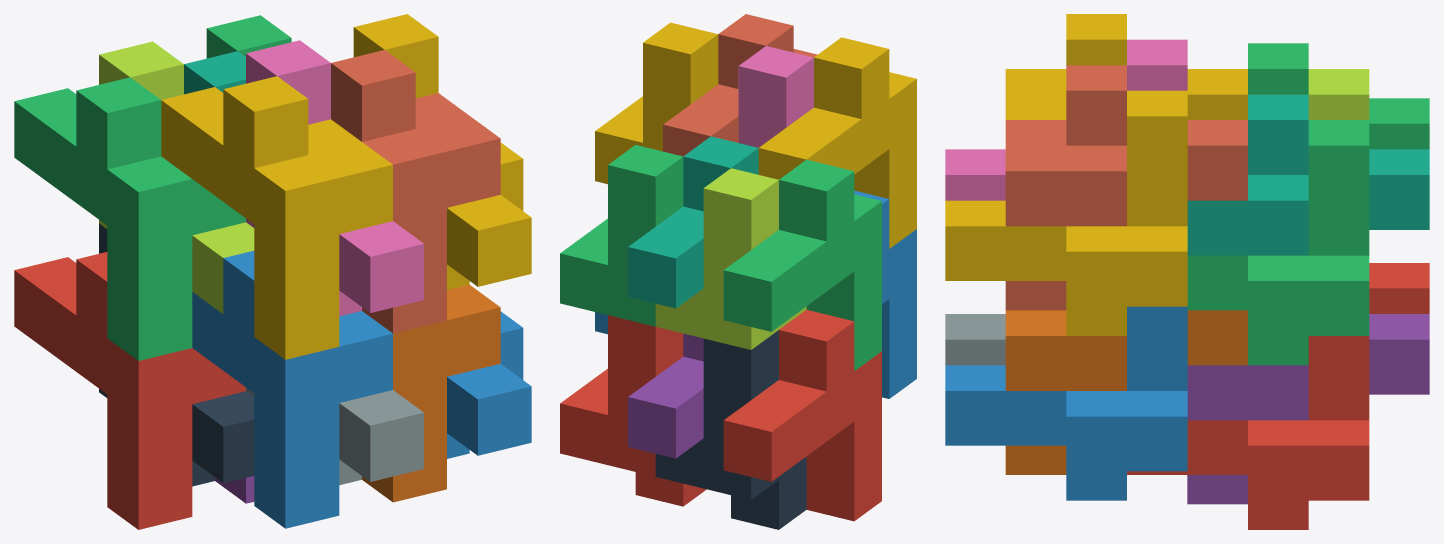
Rendered from tiling.obj.
3 views of the same model, side by side, from view 1: azimuth 30°, elevation 25°; view 2: azimuth 150°, elevation 25°; view 3: azimuth 270°, elevation 25° (orthographic). The views are drawn at different scales.
Parts seen in each view (by area): view 1: copy_1_domain_4, copy_1_domain_3, copy_1_domain_1, copy_1_domain_2, copy_1_domain_8, copy_2_domain_8, copy_1_domain_6, copy_2_domain_4, copy_2_domain_6, copy_2_domain_2, copy_2_domain_3, copy_2_domain_1 (+3 smaller); view 2: copy_1_domain_1, copy_1_domain_3, copy_1_domain_4, copy_2_domain_1, copy_2_domain_7, copy_2_domain_5, copy_2_domain_3, copy_1_domain_7, copy_2_domain_8, copy_1_domain_8, copy_1_domain_5, copy_2_domain_4 (+1 smaller); view 3: copy_2_domain_8, copy_2_domain_6, copy_2_domain_7, copy_1_domain_8, copy_2_domain_5, copy_1_domain_7, copy_1_domain_5, copy_1_domain_6, copy_1_domain_4, copy_1_domain_3, copy_2_domain_4, copy_2_domain_2 (+2 smaller).
Part boxes in pixels (x1,y1,x2,y2): copy_1_domain_4: (161, 76, 392, 359); copy_1_domain_3: (14, 77, 245, 360); copy_1_domain_1: (14, 252, 245, 529); copy_1_domain_2: (192, 250, 392, 528); copy_1_domain_8: (331, 50, 500, 333); copy_2_domain_8: (353, 14, 531, 289); copy_1_domain_6: (362, 284, 500, 502); copy_2_domain_4: (246, 40, 423, 316); copy_2_domain_6: (447, 311, 531, 458); copy_2_domain_2: (246, 387, 423, 485); copy_2_domain_3: (99, 41, 254, 313); copy_2_domain_1: (99, 223, 254, 486); copy_1_domain_1: (723, 309, 881, 521); copy_1_domain_3: (723, 159, 881, 370); copy_1_domain_4: (758, 37, 916, 248); copy_2_domain_1: (655, 330, 806, 529); copy_2_domain_7: (560, 145, 683, 326); copy_2_domain_5: (560, 315, 706, 506); copy_2_domain_3: (655, 168, 806, 349); copy_1_domain_7: (628, 136, 758, 308); copy_2_domain_8: (595, 22, 718, 184); copy_1_domain_8: (663, 14, 817, 156); copy_1_domain_5: (628, 333, 703, 458); copy_2_domain_4: (738, 46, 813, 147); copy_2_domain_8: (945, 90, 1187, 335); copy_2_domain_6: (945, 306, 1187, 500); copy_2_domain_7: (1187, 120, 1369, 365); copy_1_domain_8: (1005, 65, 1247, 310); copy_2_domain_5: (1127, 336, 1369, 529); copy_1_domain_7: (1187, 94, 1429, 255); copy_1_domain_5: (1187, 314, 1429, 504); copy_1_domain_6: (1005, 310, 1247, 474); copy_1_domain_4: (1005, 14, 1247, 119); copy_1_domain_3: (1248, 43, 1429, 149); copy_2_domain_4: (945, 39, 1187, 200); copy_2_domain_2: (945, 314, 1005, 365).
Bounding box in the file's own units: 6 × 8 × 8.
